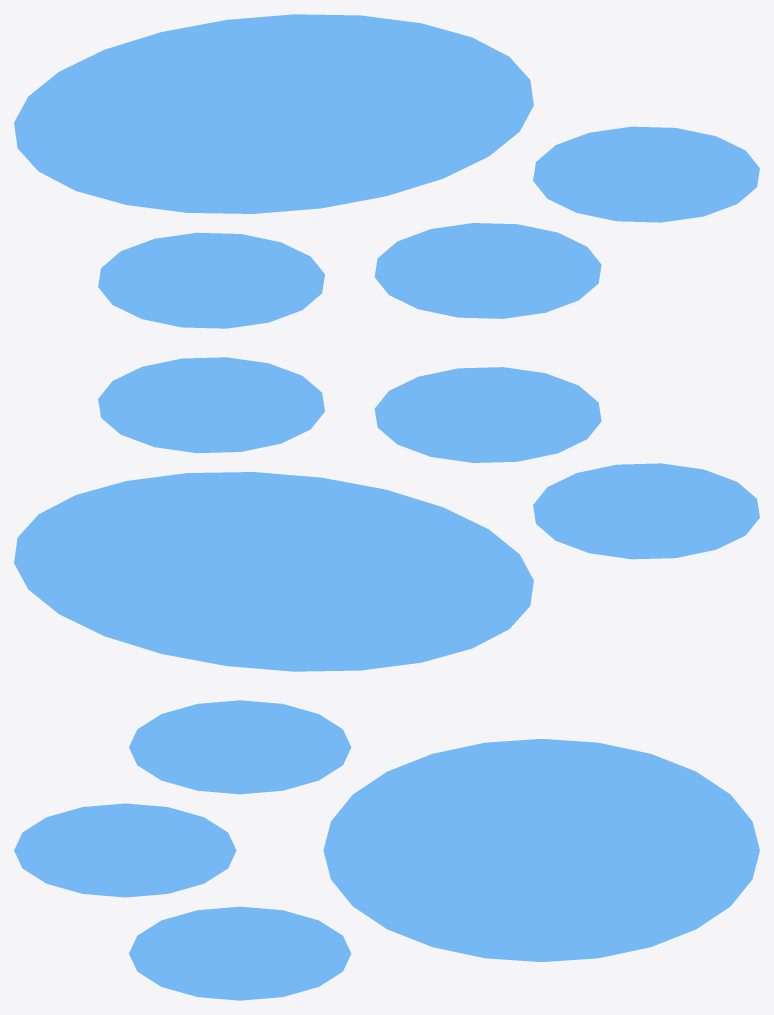
Rendered from poppy_paw_boy.glb.
3 renders of one model, top to bottom at view 1: azimuth 30°, elevation 25°; view 2: azimuth 150°, elevation 25°; view 3: azimuth 270°, elevation 25°, orthographic. The views are drawn at different scales.
Visible parts, largest first — view 1: Paw; view 2: Paw; view 3: Paw.
Boxes of the visible parts, x1,y1,x2,y2 form: Paw: [14, 14, 759, 328]; Paw: [14, 357, 759, 671]; Paw: [14, 700, 759, 1000].
Size of the model in its own units: 0.099 by 3.47e-18 by 0.1039.
